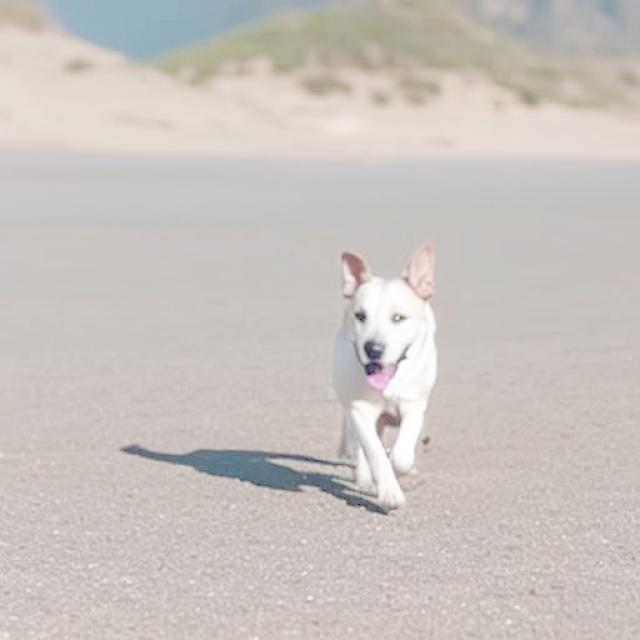Dog: (332, 240, 438, 510)
